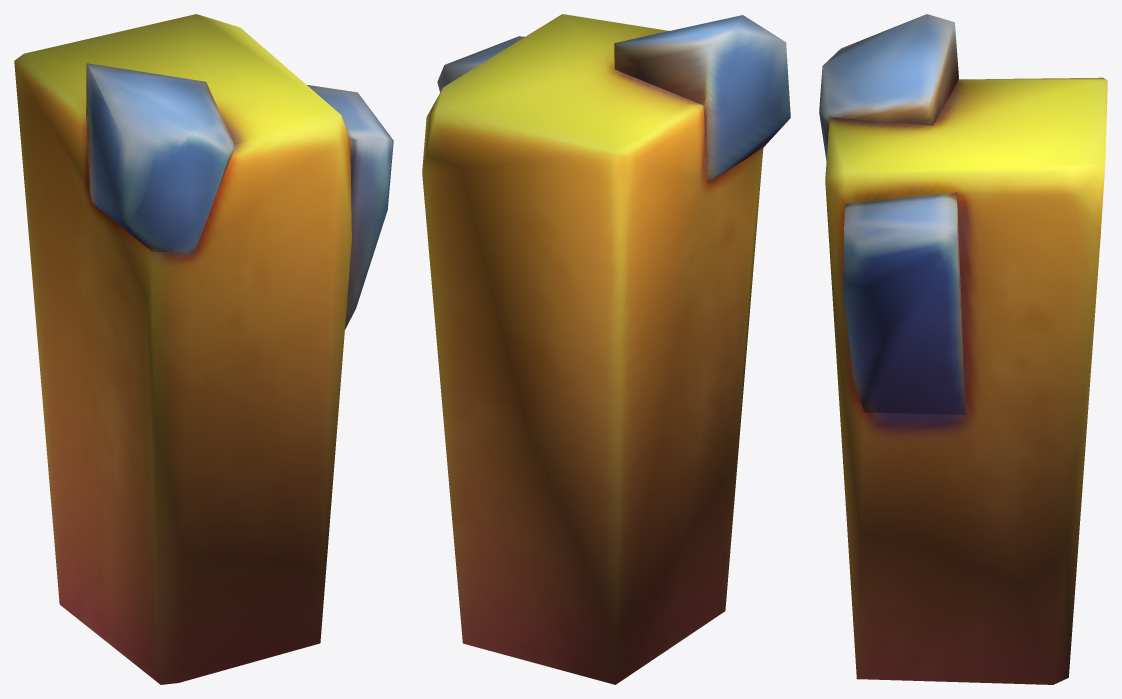
File: SM_Gem_Topaz_002.fbx
3 views of the same model, side by side, from view 1: azimuth 30°, elevation 25°; view 2: azimuth 150°, elevation 25°; view 3: azimuth 270°, elevation 25° (orthographic). The views are drawn at different scales.
Parts seen in each view (by area): view 1: SM_Gem_Topaz_002; view 2: SM_Gem_Topaz_002; view 3: SM_Gem_Topaz_002.
Boxes of the visible parts, x1=… form: SM_Gem_Topaz_002: x1=14, y1=14, x2=393, y2=684; SM_Gem_Topaz_002: x1=422, y1=14, x2=790, y2=684; SM_Gem_Topaz_002: x1=819, y1=14, x2=1107, y2=684.
Bounding box in the file's own units: 11.52 × 23.12 × 10.41.
